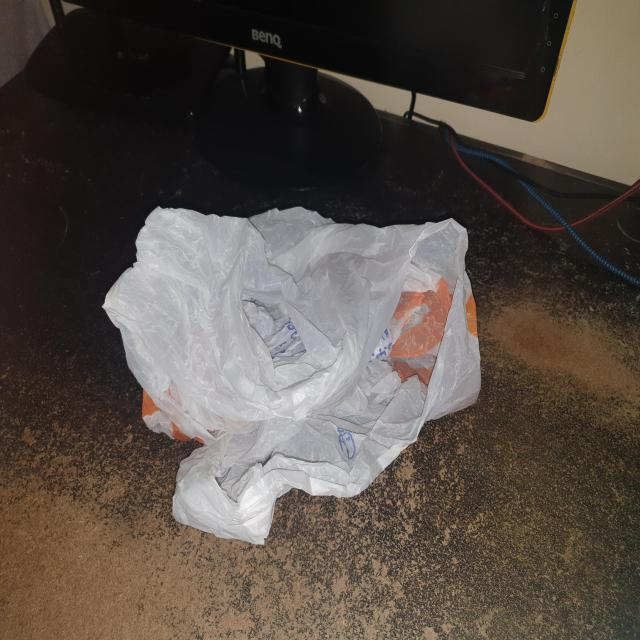plastic bag: (93, 203, 488, 554)
